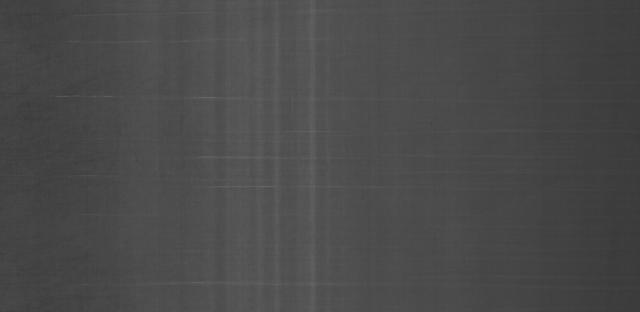waist_folding: (157, 0, 352, 302)
